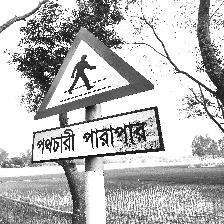Pedestrian-crossing: (31, 26, 163, 165)
